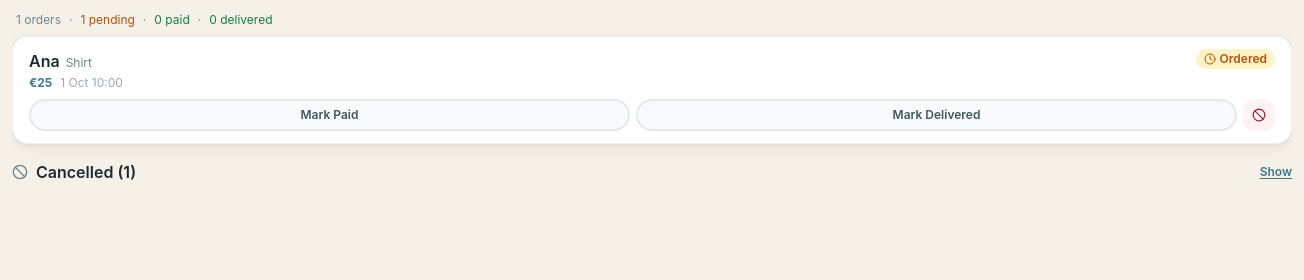
Test: OrdersTable › keeps cancelled orders under a heading until shown
Expected: the heading "Cancelled (1)" is shown, x1=36 y1=162 x2=136 y2=182
Expected: the number of list items is 1, x1=13 y1=37 x2=1291 y2=143
Click the button "Show": (1272, 172) x1=1252 y1=152 x2=1292 y2=192
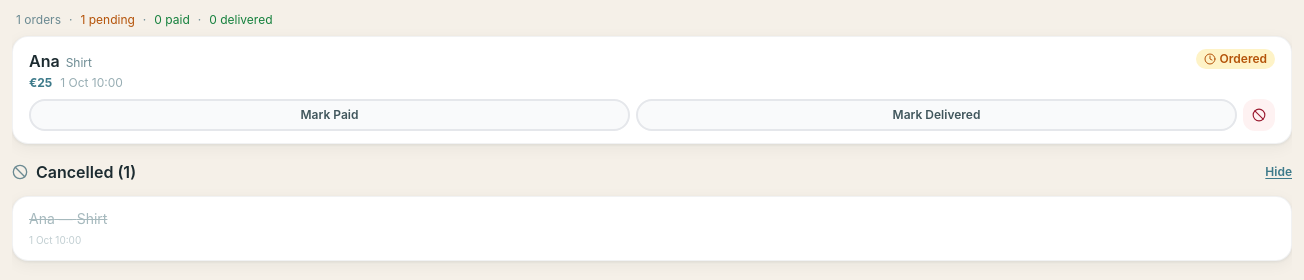
Expected: the number of list items is 2, x1=13 y1=37 x2=1291 y2=143; x1=29 y1=210 x2=107 y2=246
